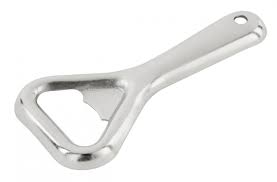bottleopener: (13, 10, 267, 170)
